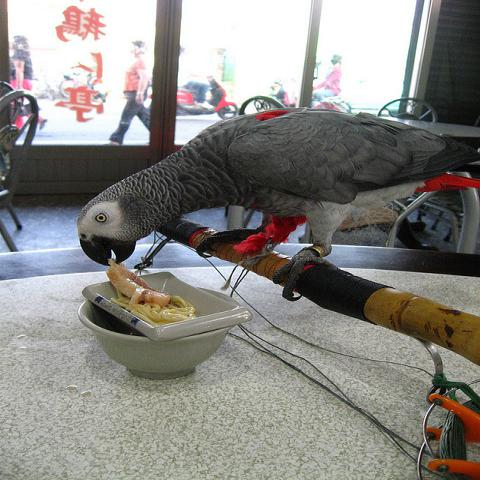motorcycle: (176, 75, 238, 119)
